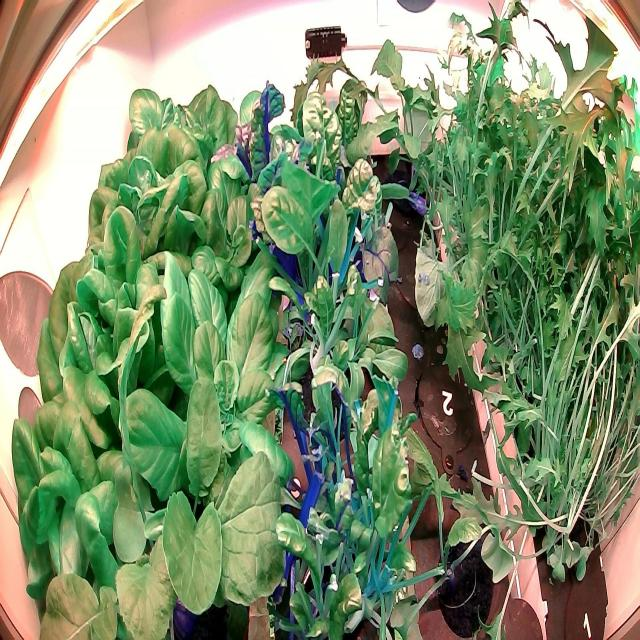Ready: (85, 79, 238, 288), (38, 208, 168, 446), (12, 391, 124, 640)
empty_pod: (406, 347, 478, 464)
young: (119, 245, 294, 497), (186, 161, 253, 280)
